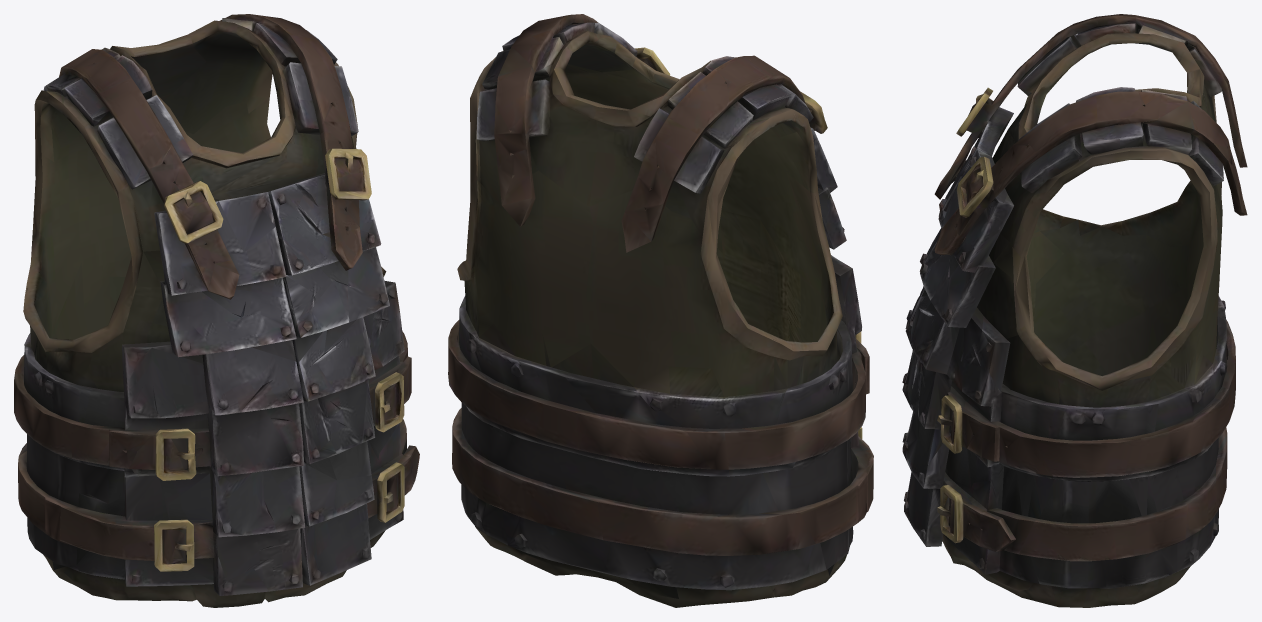
Rendered from vest_armor_samodelnyy_idle.glb.
3 views of the same model, side by side, from view 1: azimuth 30°, elevation 25°; view 2: azimuth 150°, elevation 25°; view 3: azimuth 270°, elevation 25° (orthographic). The views are drawn at different scales.
Parts seen in each view (by area): view 1: tripo_node_bf860a05-992f-4289-9fa1-f5736b0cb36a; view 2: tripo_node_bf860a05-992f-4289-9fa1-f5736b0cb36a; view 3: tripo_node_bf860a05-992f-4289-9fa1-f5736b0cb36a.
Part boxes in pixels (bbox=[...]): tripo_node_bf860a05-992f-4289-9fa1-f5736b0cb36a: bbox=[14, 14, 419, 607]; tripo_node_bf860a05-992f-4289-9fa1-f5736b0cb36a: bbox=[448, 14, 873, 607]; tripo_node_bf860a05-992f-4289-9fa1-f5736b0cb36a: bbox=[902, 14, 1247, 607].
Bounding box in the file's own units: 0.4557 × 0.5999 × 0.3861.
Materials: 1 (1 with a texture image).
